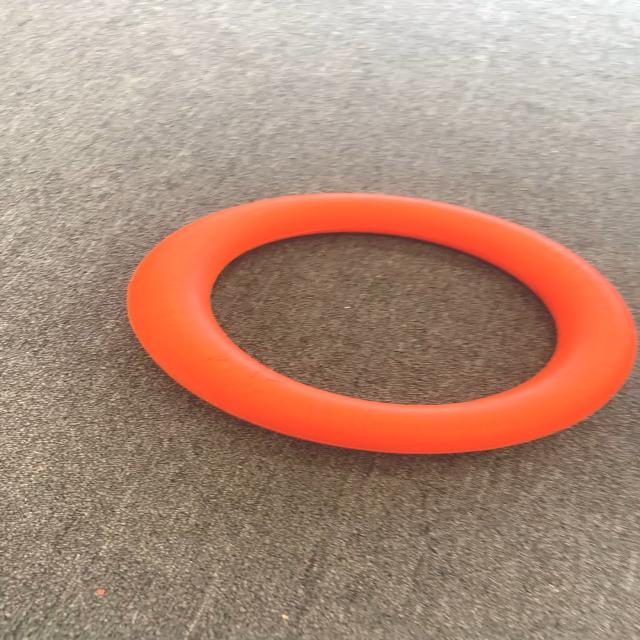notes: (121, 188, 640, 459)
